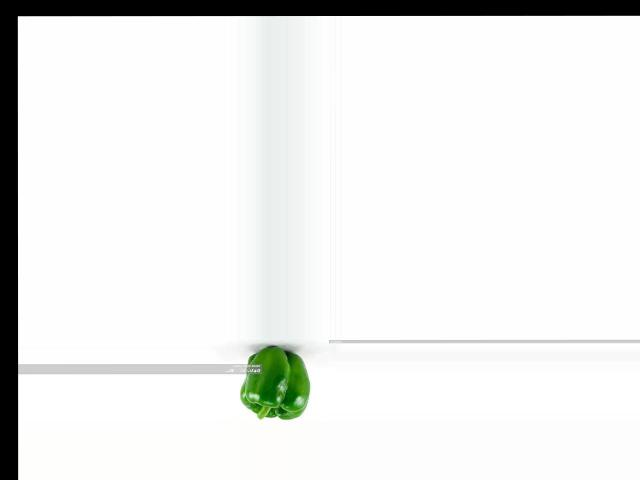bell_pepper: (241, 343, 313, 423)
